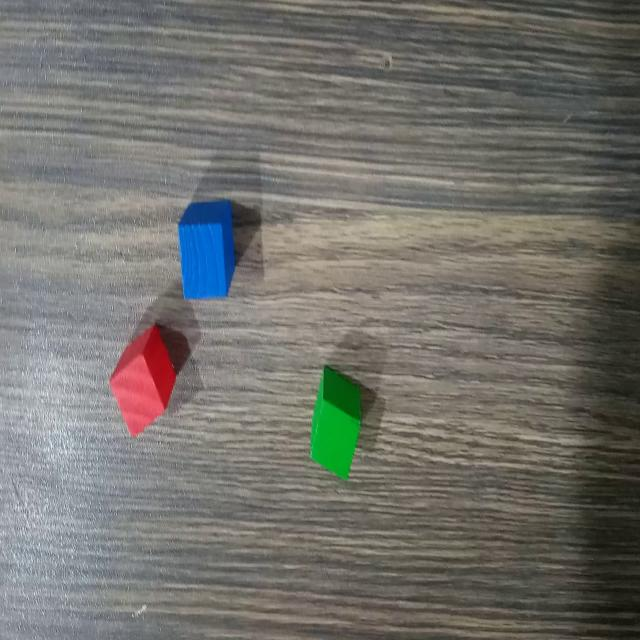cube: (107, 322, 177, 443), (305, 363, 367, 484), (174, 197, 237, 305)
